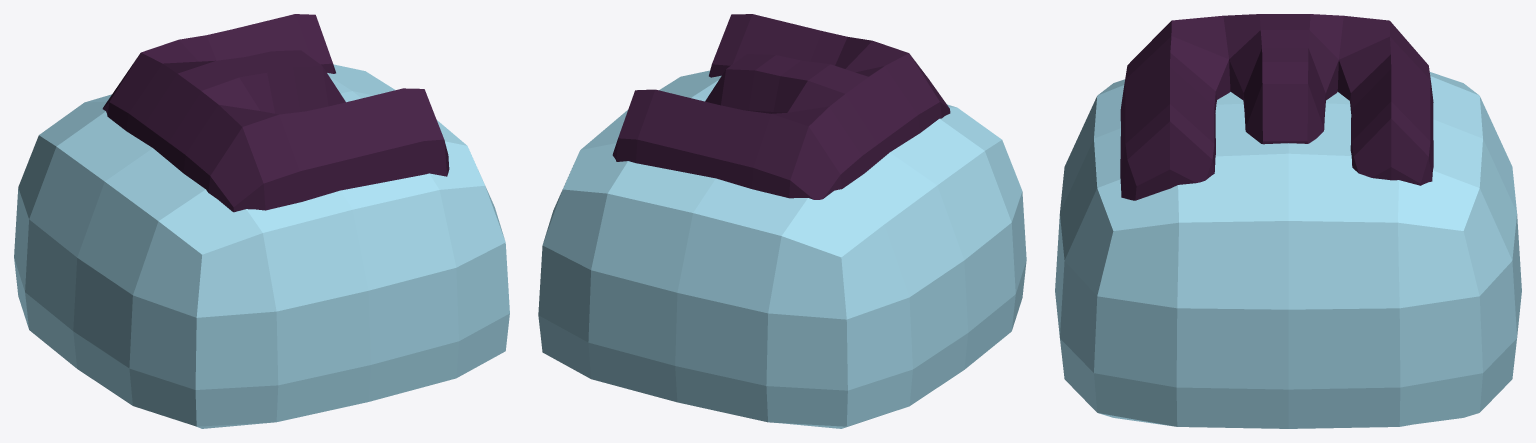
The picture shows the model from 3 angles, left to right: view 1: azimuth 30°, elevation 25°; view 2: azimuth 150°, elevation 25°; view 3: azimuth 270°, elevation 25°; orthographic projection. The views are drawn at different scales.
Visible parts, largest first — view 1: Cube.280; view 2: Cube.280; view 3: Cube.280.
Boxes of the visible parts, x1,y1,x2,y2 form: Cube.280: (14,14,509,428); Cube.280: (538,14,1026,428); Cube.280: (1055,14,1521,428).
Size of the model in its own units: 43.09 by 32.09 by 43.09.
